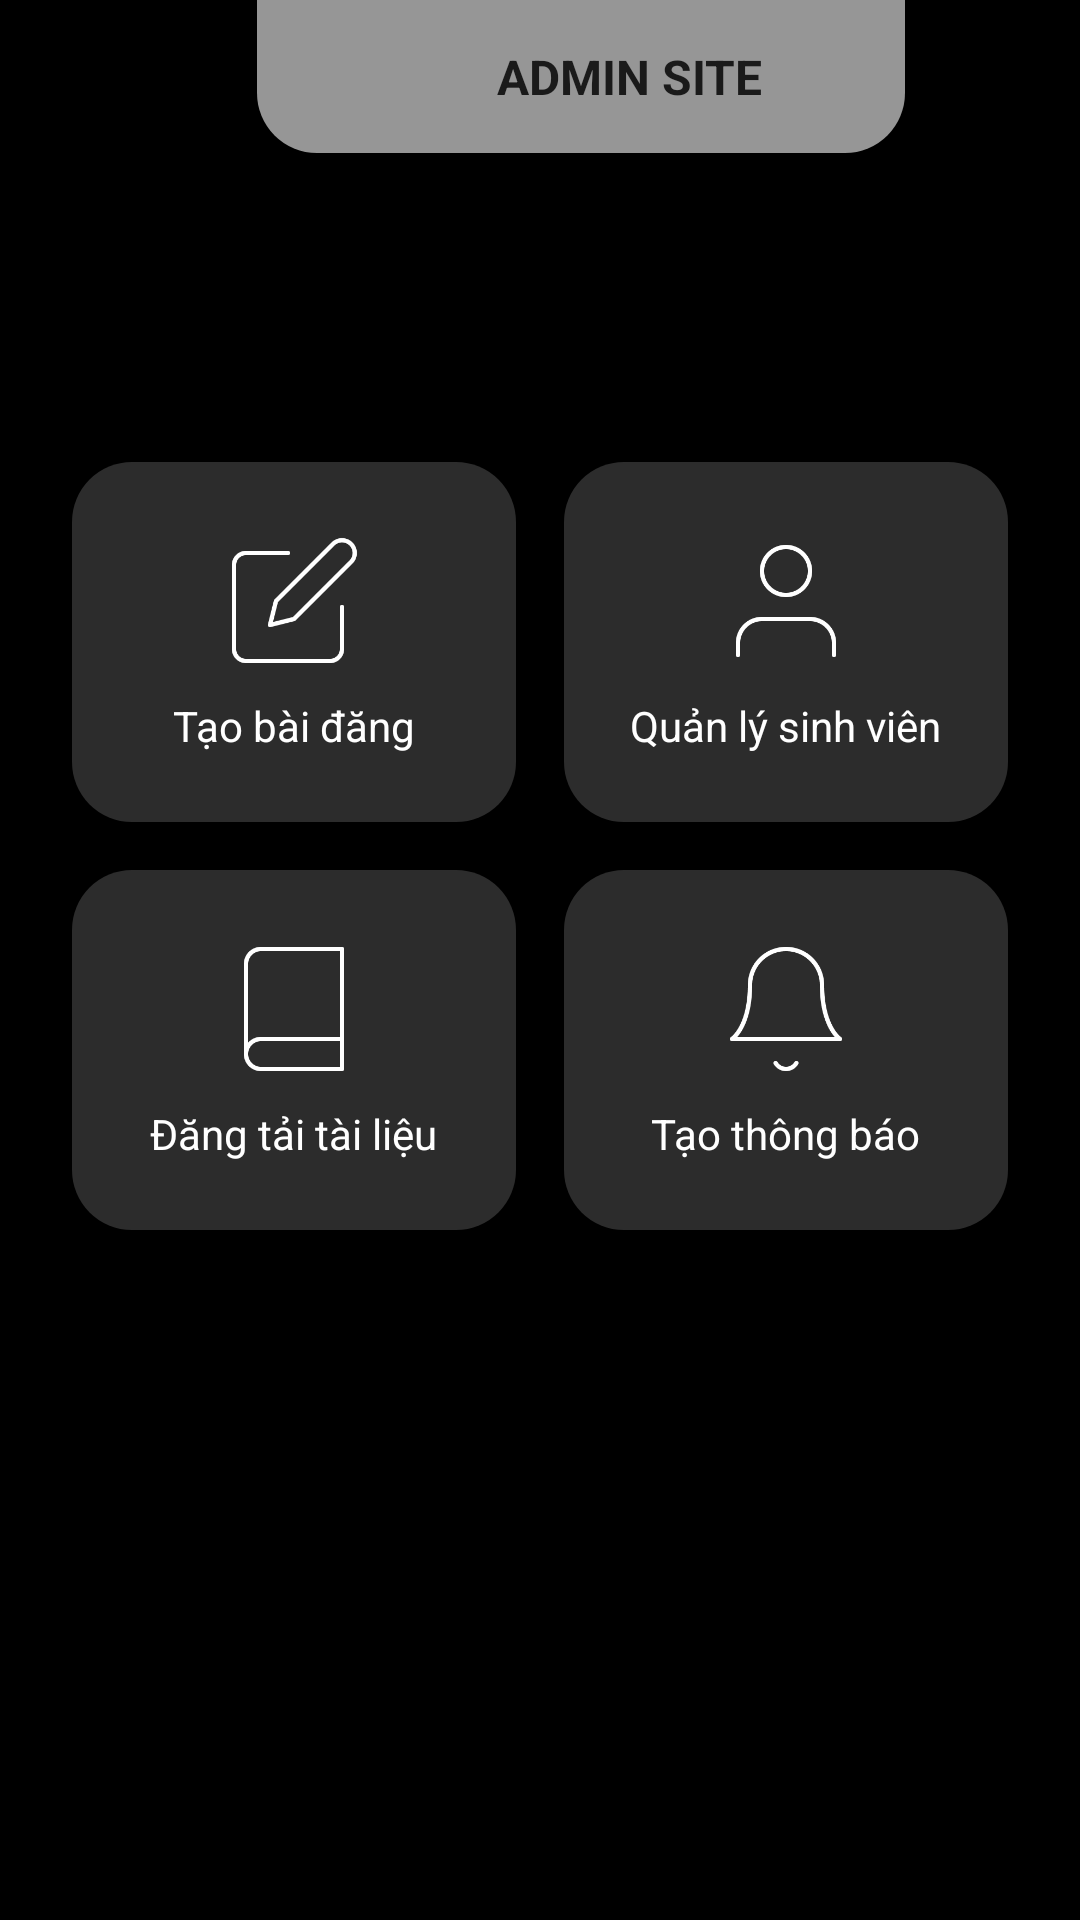

Icon click points for this 1080px×1920px phone screenshot, format [x,y]:
notice: [786,1009]
penadmin: [294,600]
useradmin: [786,601]
